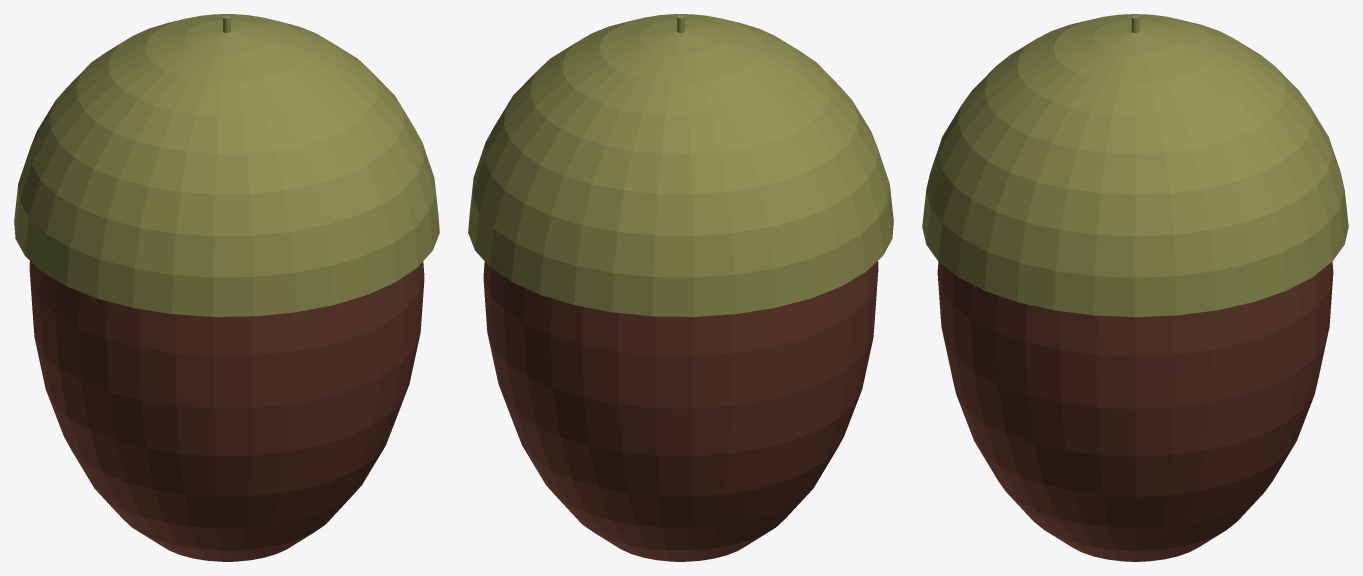
The model's file is Acorn.fbx.
The picture shows the model from 3 angles, left to right: view 1: azimuth 30°, elevation 25°; view 2: azimuth 150°, elevation 25°; view 3: azimuth 270°, elevation 25°; orthographic projection.
Visible parts, largest first — view 1: Sphere; view 2: Sphere; view 3: Sphere.
Boxes of the visible parts, bbox=[...] form: Sphere: bbox=[14, 14, 439, 561]; Sphere: bbox=[468, 14, 893, 561]; Sphere: bbox=[922, 14, 1348, 561].
Bounding box in the file's own units: 277 × 382 × 277.
2 materials, 2 textured.
